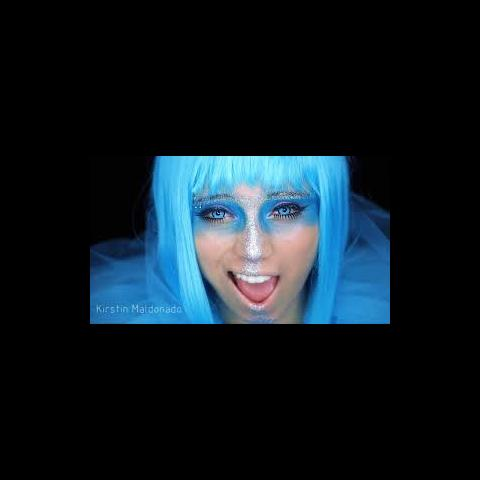opened: (190, 189, 311, 232)
